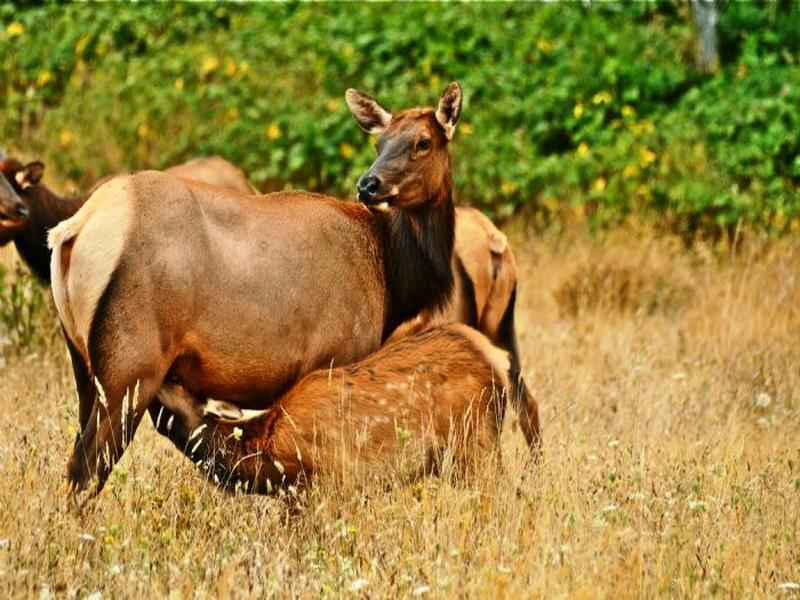elk: (49, 87, 457, 520), (219, 334, 518, 525)
